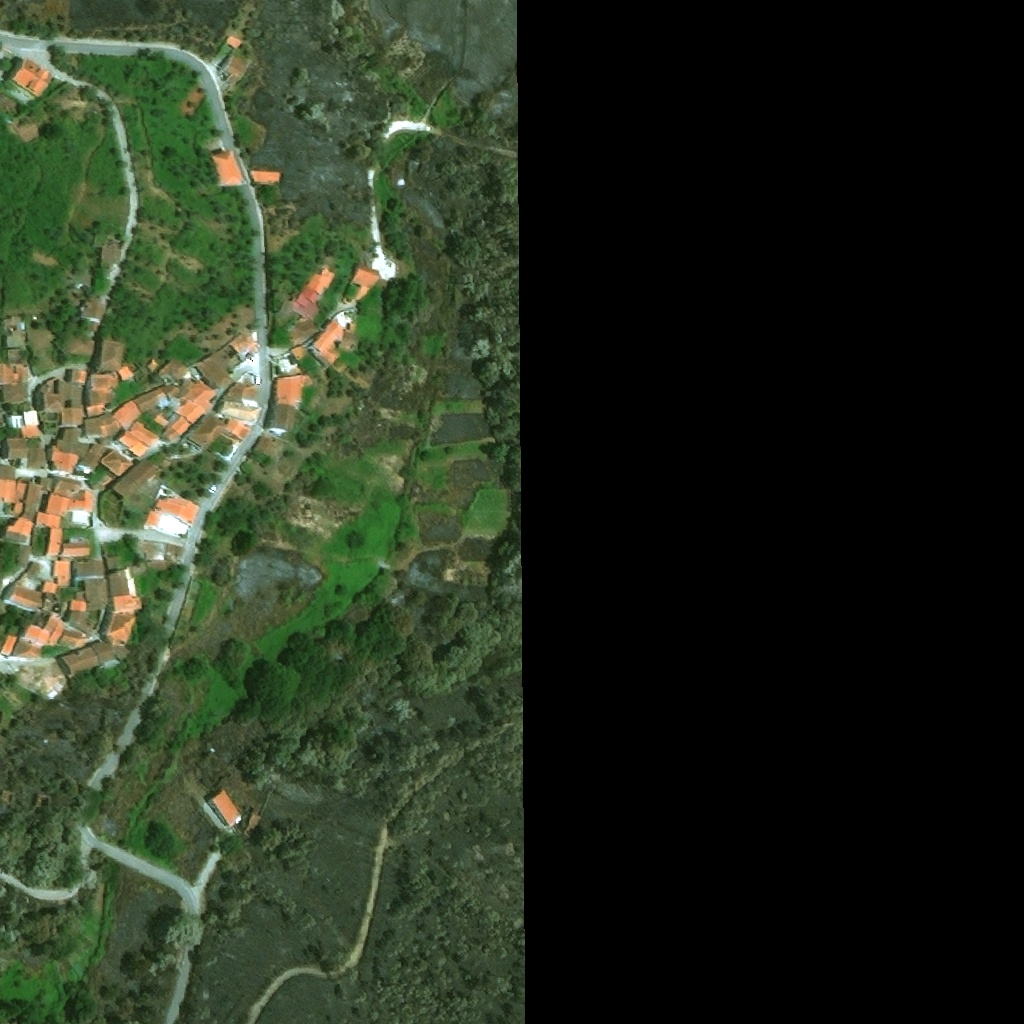0 no-damage: (83, 337, 135, 444), (141, 480, 203, 540), (186, 407, 257, 451), (169, 374, 219, 425), (111, 458, 161, 499), (306, 318, 345, 367), (196, 347, 239, 388), (19, 609, 69, 644), (8, 60, 51, 99), (35, 377, 84, 411), (214, 392, 263, 425), (58, 645, 103, 680), (71, 441, 110, 481), (159, 358, 200, 396), (205, 791, 242, 831), (98, 610, 137, 645), (1, 581, 43, 613), (209, 150, 245, 187), (27, 327, 57, 370), (53, 426, 93, 457), (348, 265, 381, 302), (290, 286, 325, 320), (101, 446, 138, 478), (76, 292, 109, 327), (269, 373, 306, 404), (117, 427, 154, 457), (162, 411, 195, 444), (110, 398, 145, 429), (266, 403, 302, 433), (131, 384, 169, 412), (75, 577, 110, 607), (46, 449, 81, 478), (127, 418, 160, 448), (228, 331, 262, 359), (0, 314, 27, 349), (305, 266, 336, 296), (287, 316, 319, 345), (2, 516, 34, 544), (68, 597, 90, 635), (108, 566, 136, 595), (99, 243, 123, 276), (22, 481, 42, 520), (222, 54, 246, 85), (11, 635, 43, 658), (225, 380, 261, 400), (72, 559, 106, 580), (58, 623, 90, 645), (45, 492, 72, 517), (63, 335, 96, 355), (0, 382, 28, 405), (0, 464, 16, 504), (37, 410, 62, 435), (3, 435, 29, 459), (91, 640, 117, 663), (252, 435, 279, 457), (111, 592, 143, 610), (0, 362, 27, 383), (145, 405, 170, 427), (12, 480, 28, 513), (334, 307, 355, 332), (45, 527, 63, 556), (52, 559, 71, 586), (70, 490, 94, 511), (35, 511, 62, 529), (336, 332, 360, 352), (249, 170, 280, 185), (61, 541, 90, 557), (60, 407, 83, 427), (0, 633, 19, 657), (55, 480, 80, 498), (73, 268, 93, 290), (23, 559, 43, 579), (66, 368, 89, 385), (27, 450, 46, 470), (22, 406, 40, 427), (110, 445, 134, 460), (289, 345, 310, 361), (6, 413, 24, 430), (71, 509, 90, 525), (7, 347, 27, 362), (224, 35, 242, 50), (107, 555, 125, 570), (19, 425, 39, 436), (40, 477, 54, 492), (42, 581, 57, 592), (345, 322, 359, 333)
4 un-classified: (271, 351, 300, 378)
